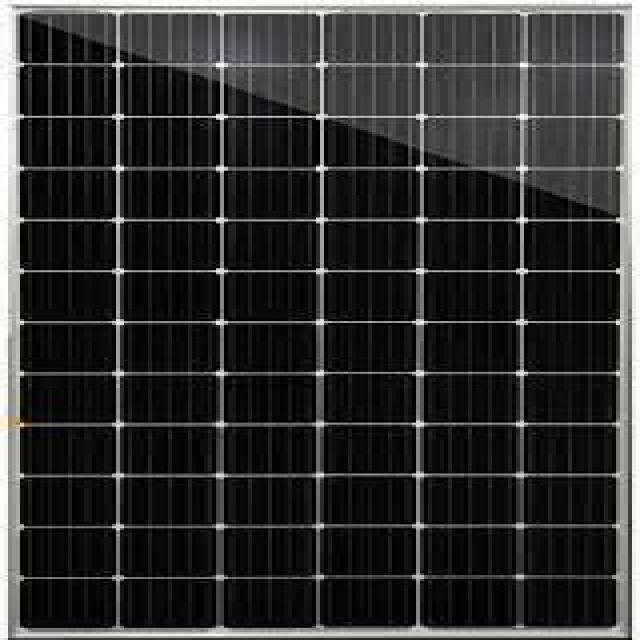no faulty: (6, 2, 640, 633)
